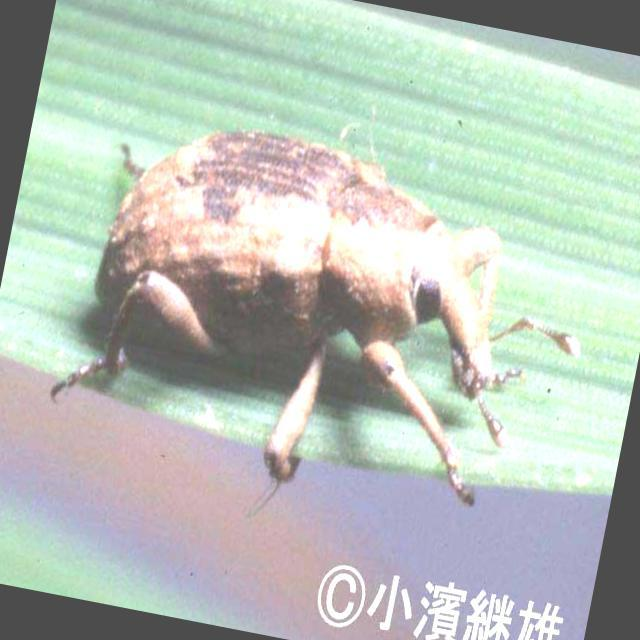ricebug: (53, 131, 519, 503)
